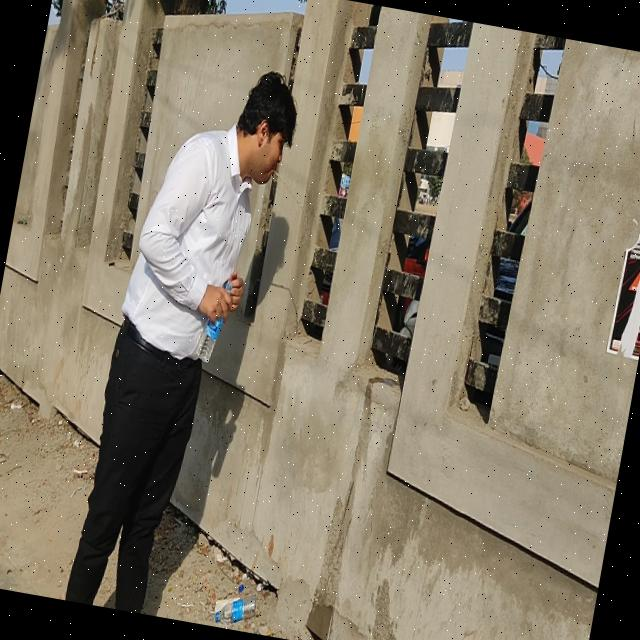spit: (240, 80, 320, 251)
